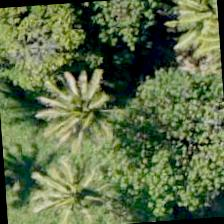Kelapa_Sawit: (0, 61, 96, 158), (18, 148, 114, 223), (157, 0, 220, 44)
